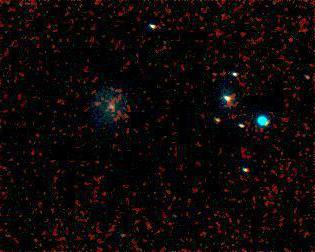star: (82, 88, 112, 118)
